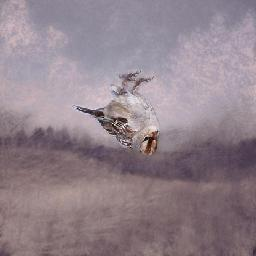Sparrow: (70, 70, 162, 157)
